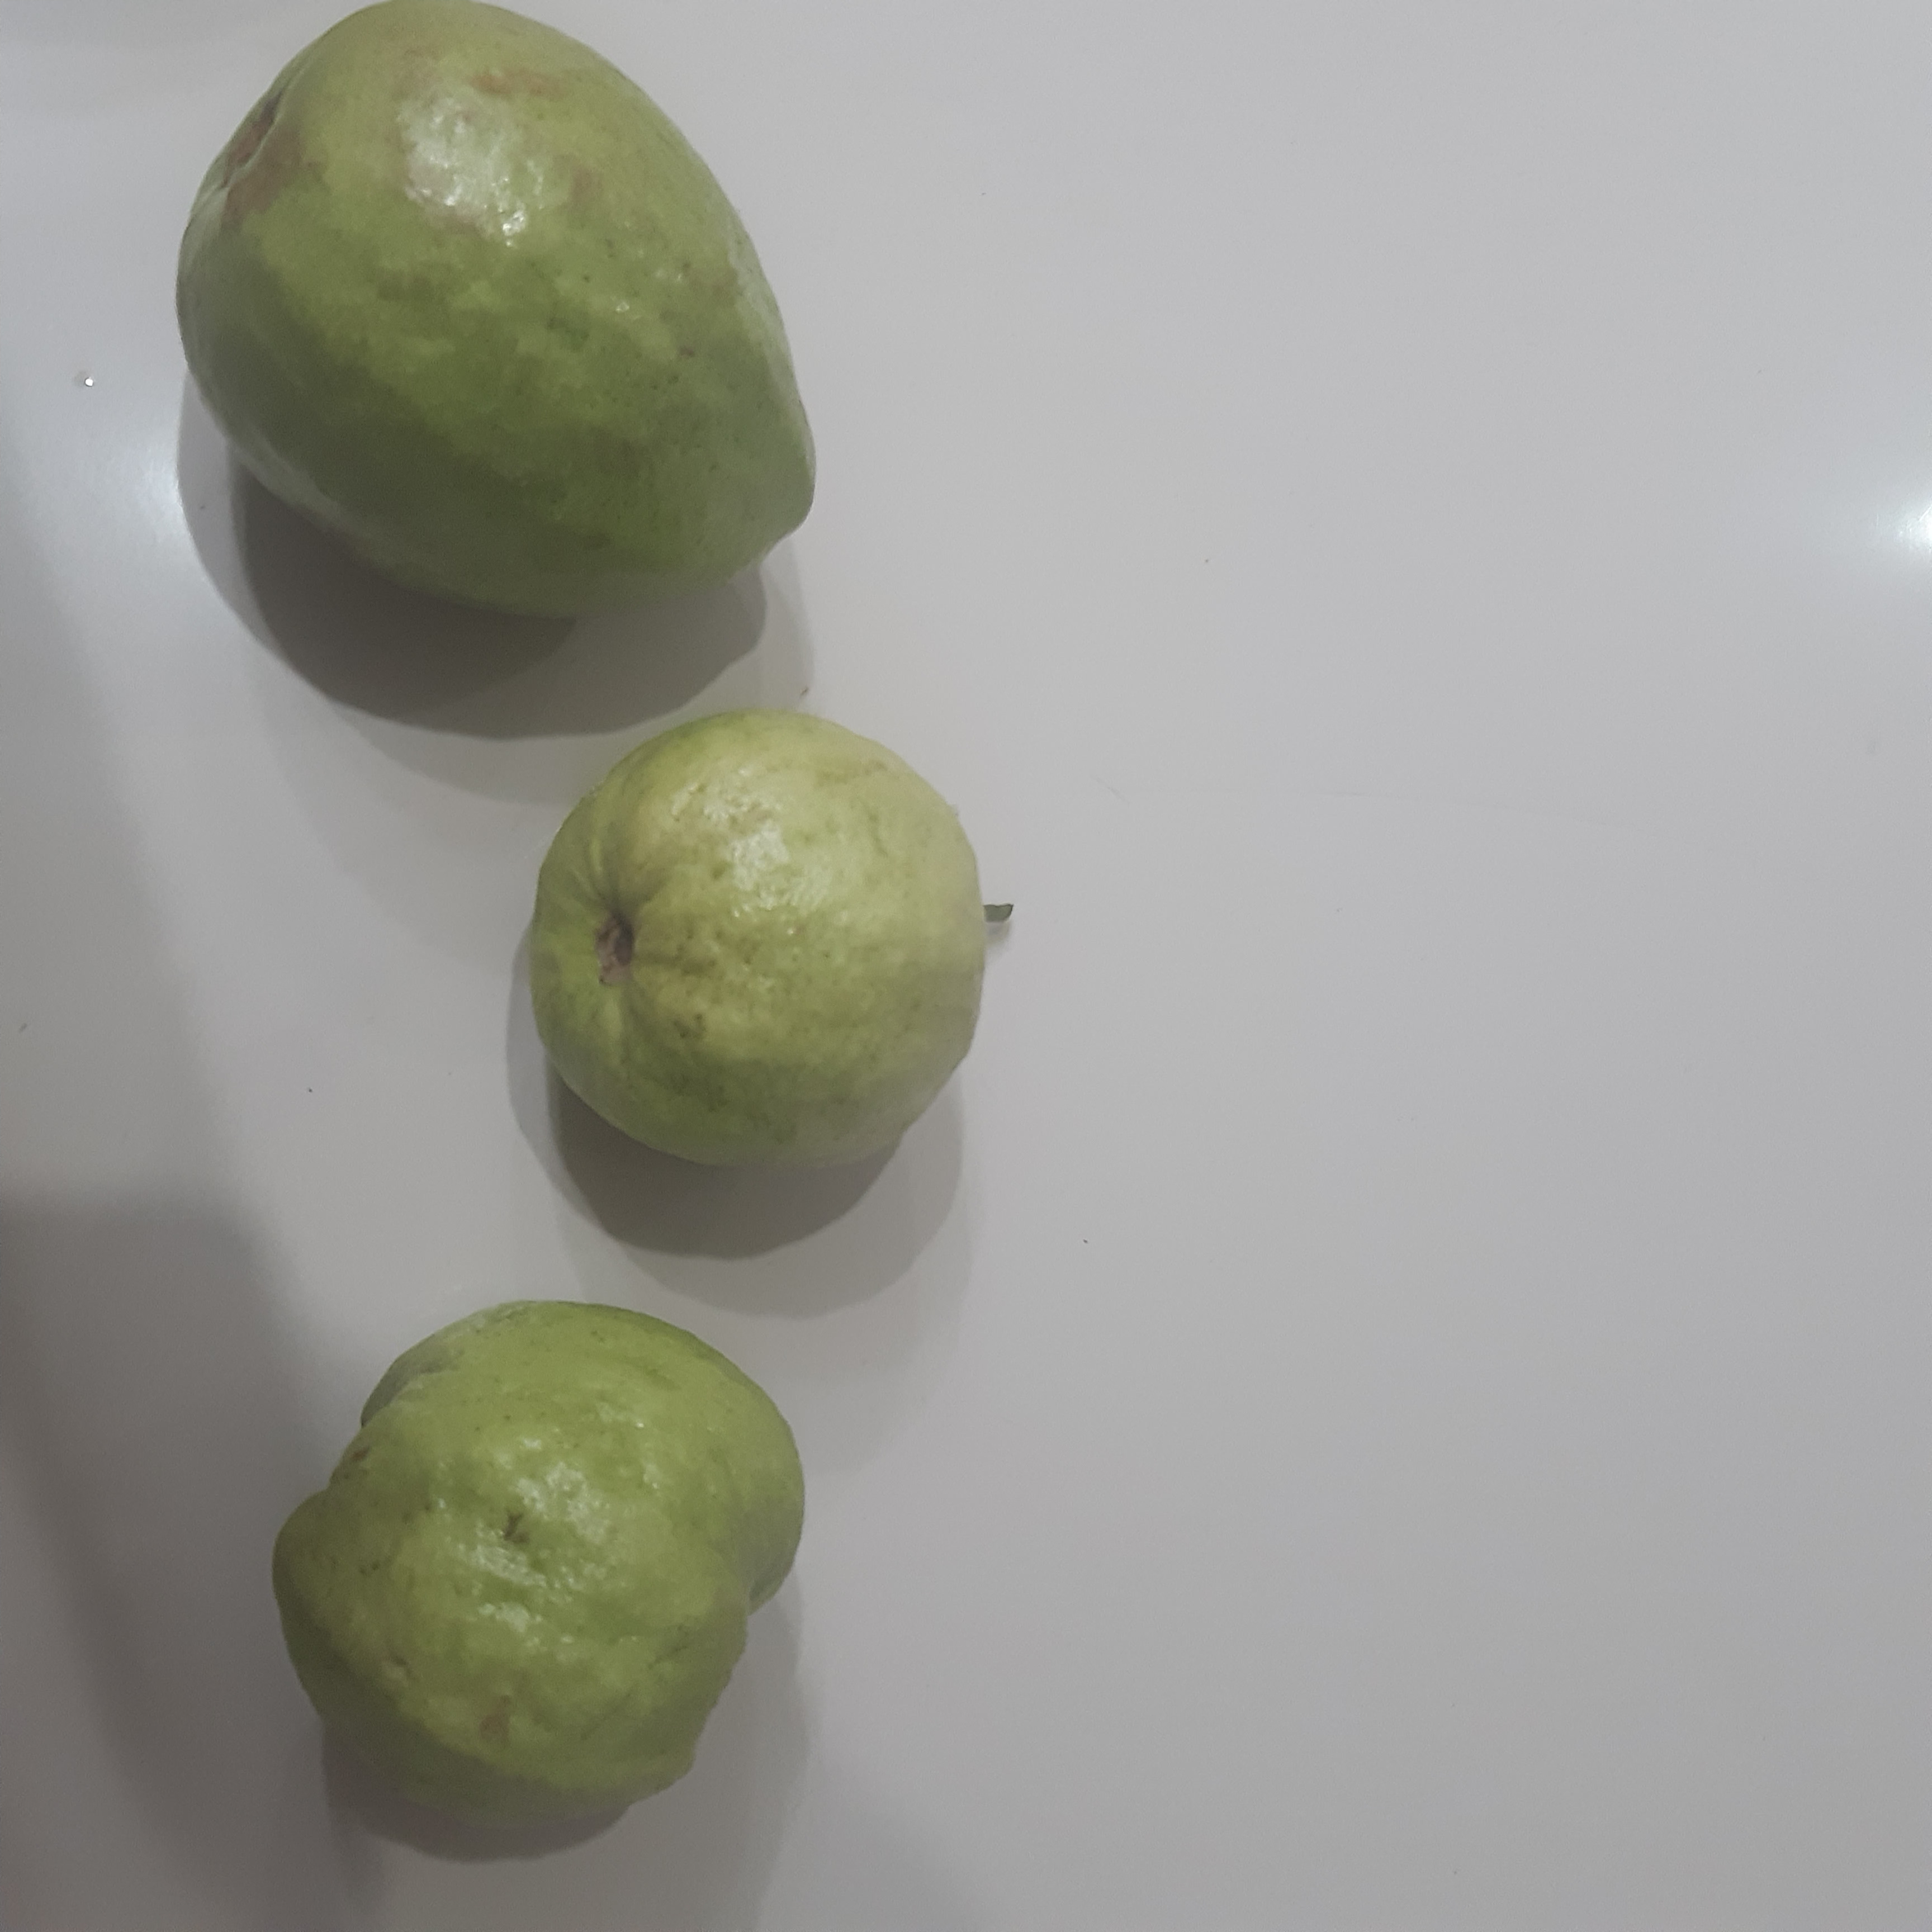Oi: (175, 0, 817, 623), (272, 1304, 805, 1838), (525, 711, 987, 1177)
